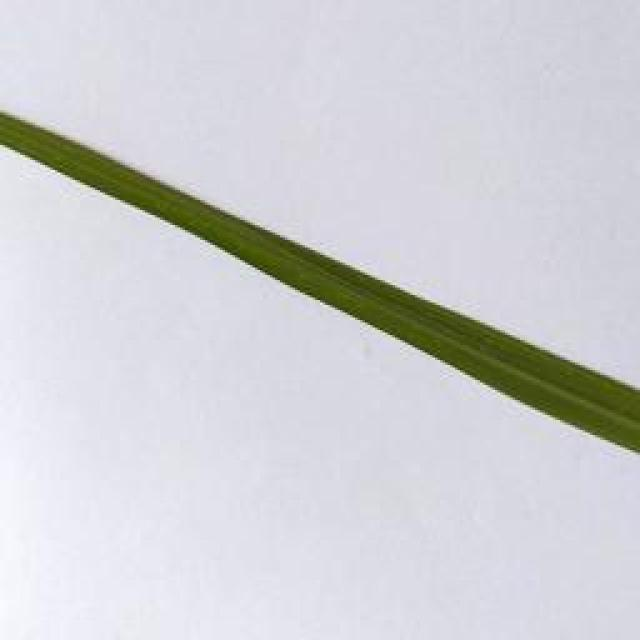Healthy-Plant: (0, 114, 640, 451)
